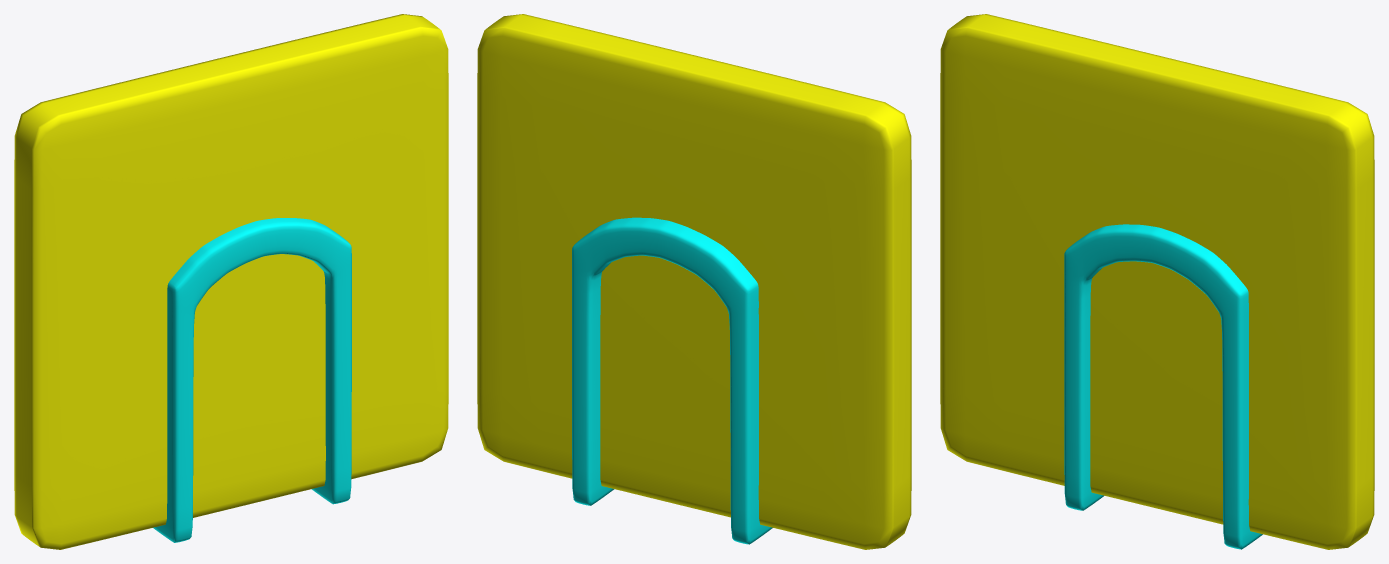
3 views of the same model, side by side, from view 1: azimuth 30°, elevation 25°; view 2: azimuth 150°, elevation 25°; view 3: azimuth 330°, elevation 25° (orthographic).
Visible parts, largest first — view 1: polySurface1011; view 2: polySurface1011; view 3: polySurface1011.
Part boxes in pixels (<box>): polySurface1011: <box>14,14,448,549</box>; polySurface1011: <box>477,14,911,549</box>; polySurface1011: <box>940,14,1374,549</box>.
Size of the model in its own units: 0.9994 by 1.03 by 0.1741.
